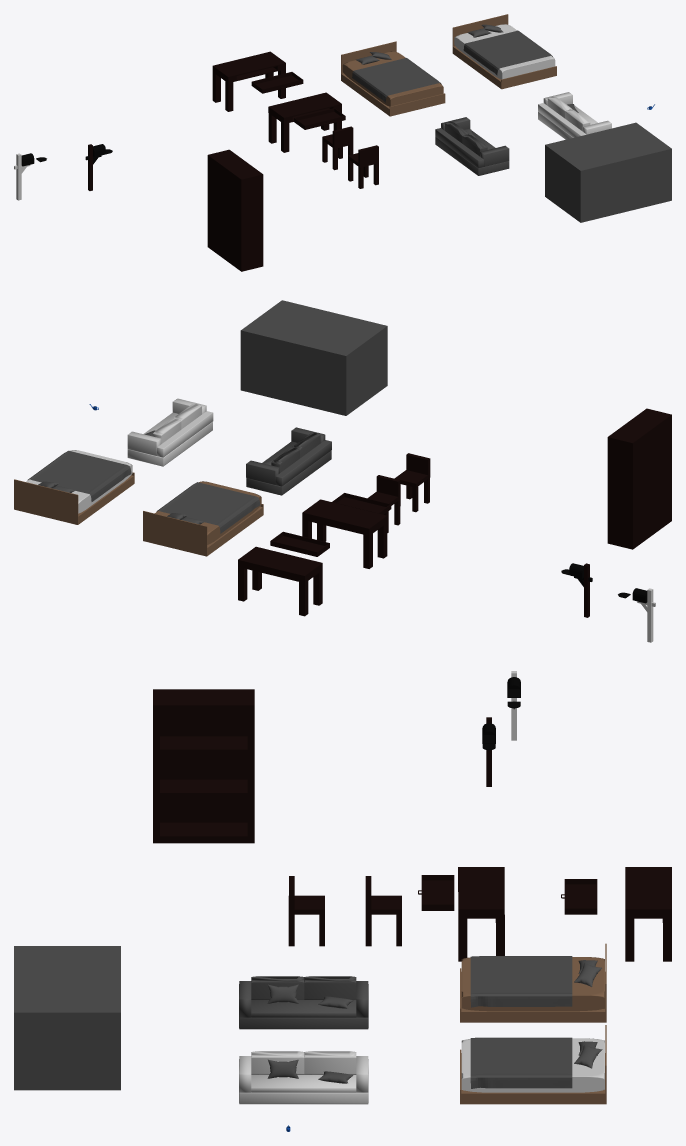
Rendered from watering.obj.
3 renders of one model, top to bottom at view 1: azimuth 30°, elevation 25°; view 2: azimuth 150°, elevation 25°; view 3: azimuth 270°, elevation 25°, orthographic. The views are drawn at different scales.
Visible parts, largest first — view 1: Cube.031, Cube, metrise.001, Plane, Cube.013, Cube.032, metrise, Cube.001, bed02, Cube.020, Cube.006, Cube.023 (+6 smaller); view 2: Cube.031, Cube, metrise.001, Cube.032, Cube.013, Plane, bed01, Cube.001, bed02, Cube.020, Cube.025, Cube.023 (+5 smaller); view 3: Cube, Cube.031, metrise.001, Cube.032, Plane, Cube.013, Cube.001, metrise, bed, Cube.023, Cube.024, bed02 (+4 smaller).
Boxes of the visible parts, <box> form: Cube.031: <box>545,122,671,222</box>; Cube: <box>207,149,263,271</box>; metrise.001: <box>452,14,556,89</box>; Plane: <box>352,57,441,102</box>; Cube.013: <box>212,51,285,111</box>; Cube.032: <box>538,92,611,139</box>; metrise: <box>342,51,443,106</box>; Cube.001: <box>268,92,341,123</box>; bed02: <box>348,145,378,188</box>; Cube.020: <box>251,72,303,93</box>; Cube.006: <box>294,108,345,129</box>; Cube.023: <box>435,137,509,175</box>; Cube.031: <box>240,300,387,415</box>; Cube: <box>607,408,671,549</box>; metrise.001: <box>14,450,134,524</box>; Cube.032: <box>127,398,213,466</box>; Cube.013: <box>238,546,322,616</box>; Plane: <box>156,482,260,533</box>; bed01: <box>143,511,207,556</box>; Cube.001: <box>302,499,387,535</box>; bed02: <box>394,453,430,512</box>; Cube.020: <box>270,531,329,556</box>; Cube.025: <box>275,440,331,486</box>; Cube.023: <box>246,450,331,495</box>; Cube: <box>153,689,254,843</box>; Cube.031: <box>14,946,120,1090</box>; metrise.001: <box>460,1025,606,1104</box>; Cube.032: <box>239,1051,368,1104</box>; Plane: <box>470,956,572,1007</box>; Cube.013: <box>625,867,671,961</box>; Cube.001: <box>458,867,504,918</box>; metrise: <box>461,957,604,1011</box>; bed: <box>461,972,605,1022</box>; Cube.023: <box>239,999,368,1029</box>; Cube.024: <box>251,1000,356,1017</box>; bed02: <box>288,876,324,946</box>.
Bounding box in the file's own units: 50.09 × 7.8 × 33.74.
